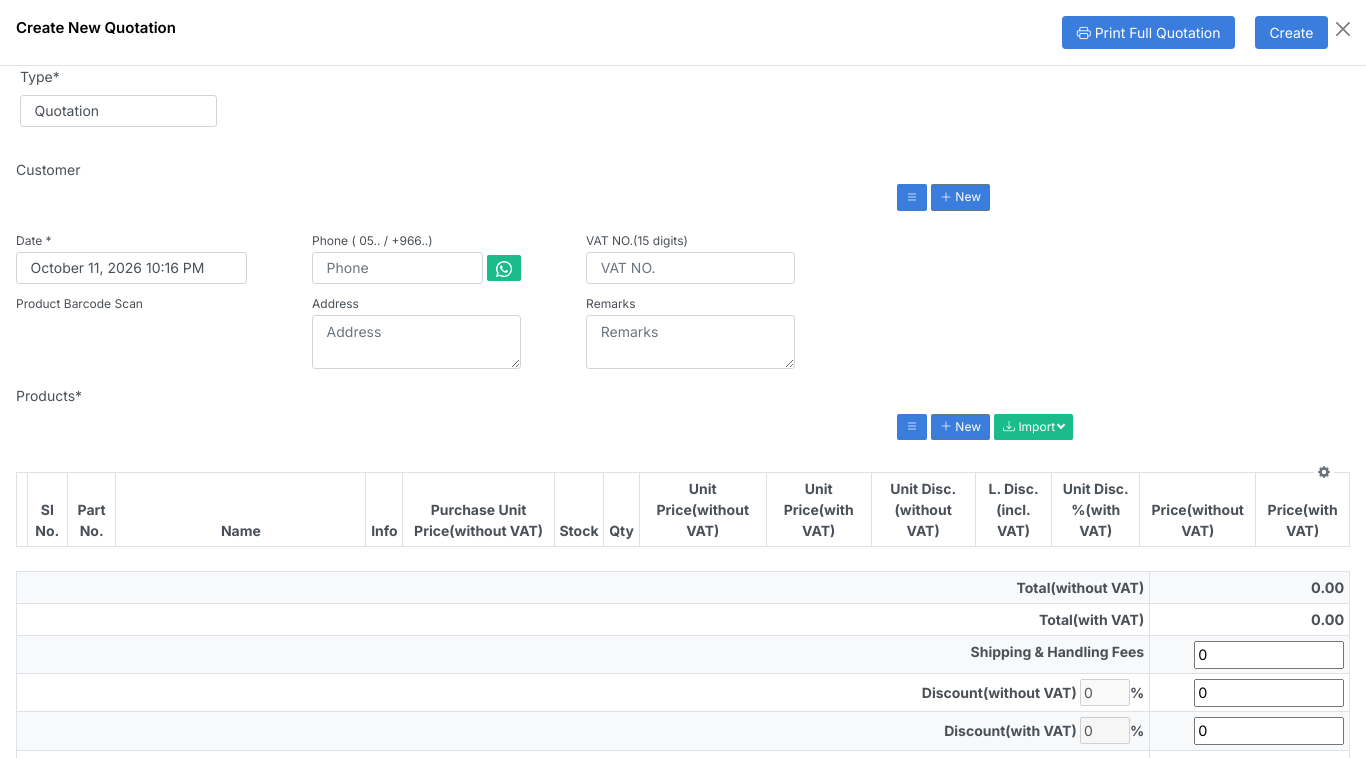
Test: Quotation form: Import > From Quotations (integration) › closing the product modal imports nothing
The image size is (1366, 758).
What coordinates should you click on to do the following:
click the button with test id "import-dropdown-btn"
I would click on:
 (1034, 427)
Its box is [994,414,1073,440].
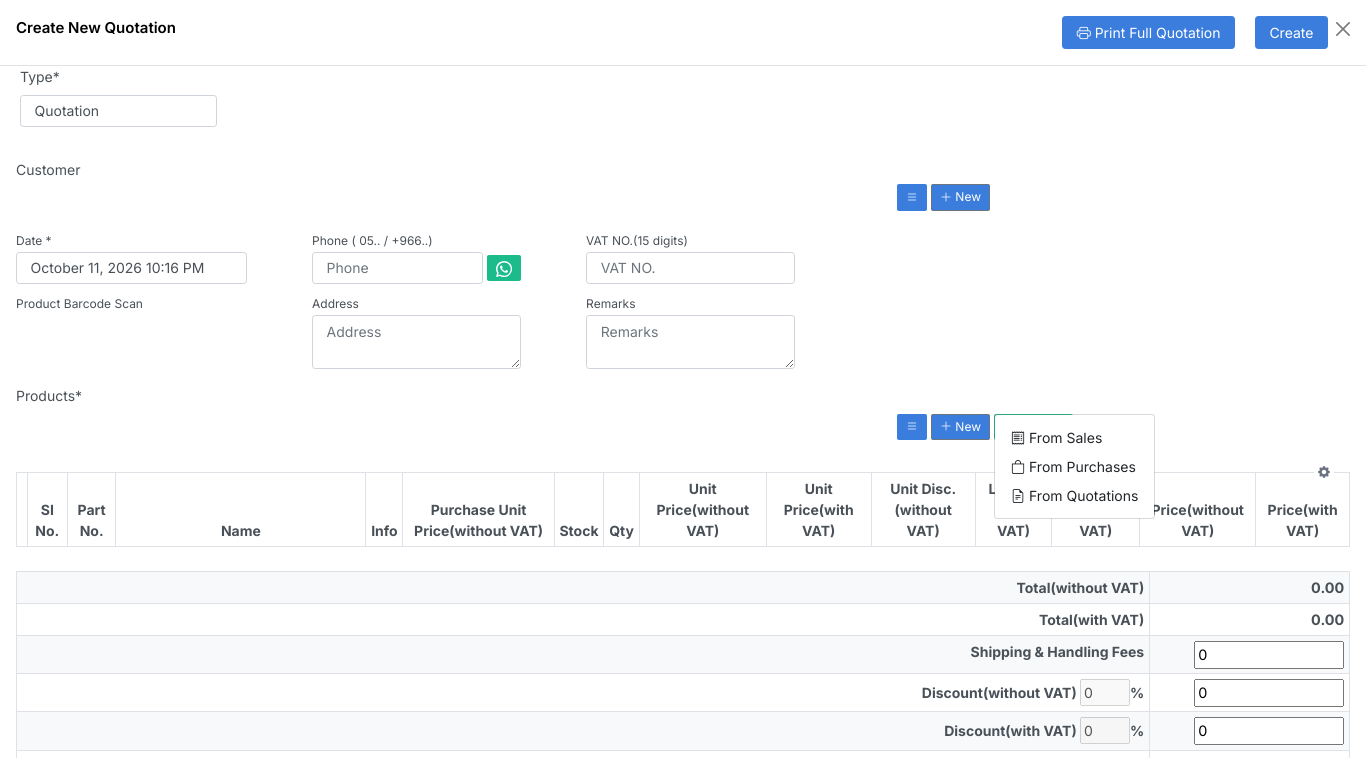
What coordinates should you click on to do the following:
click the button with test id "import-from-quotation-btn"
I would click on:
 (1075, 495)
Its box is [1011,487,1138,504].
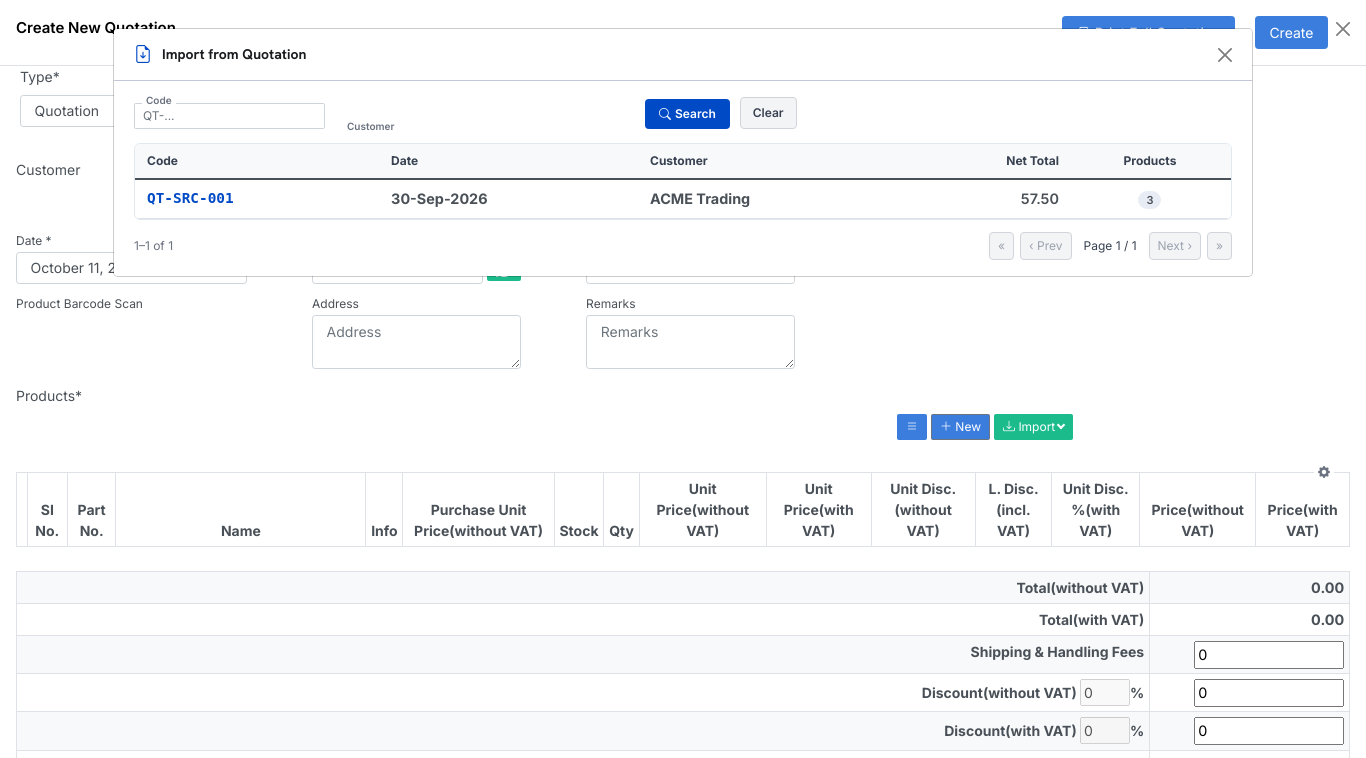
What coordinates should you click on to do the following:
click the text "QT-SRC-001"
I would click on:
 (258, 199)
Its box is [135,179,381,218].
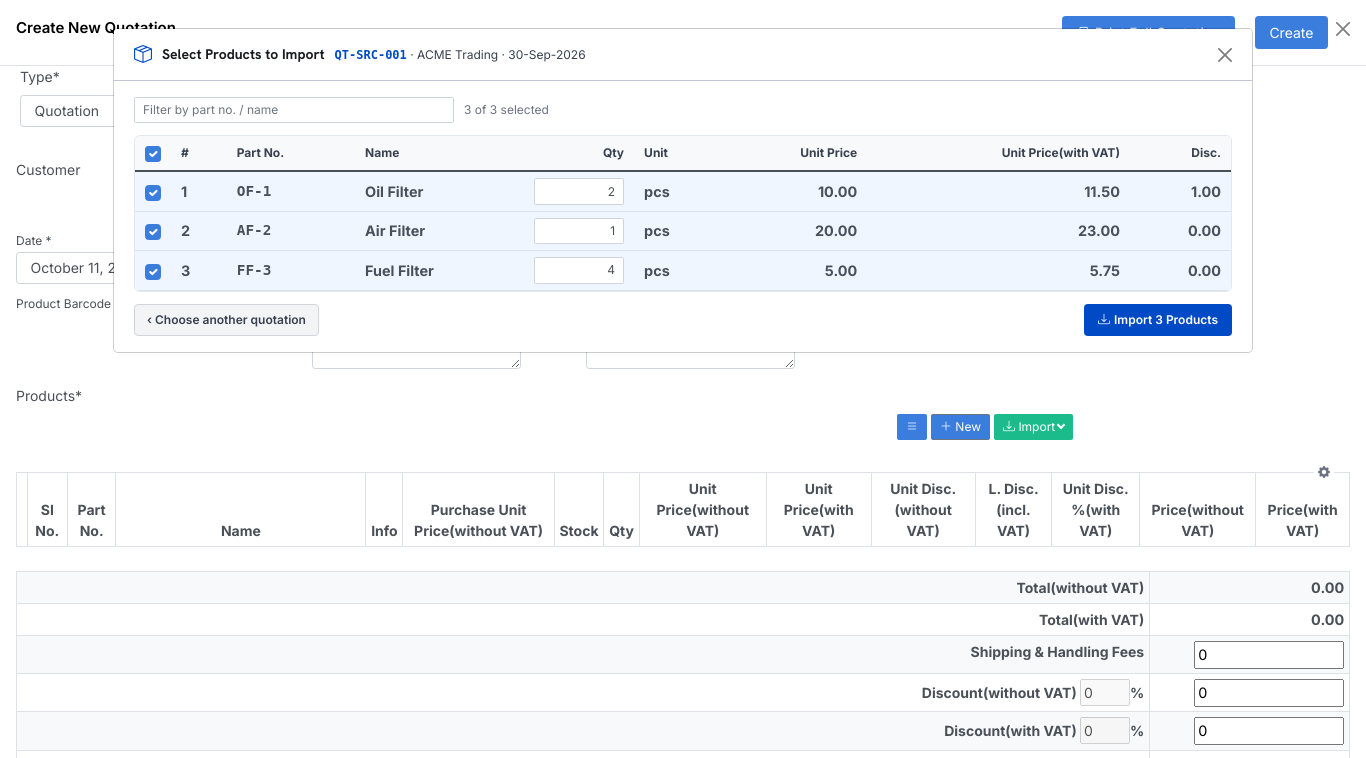
expect the heading "Select Products to Import" is shown: met, box [162,46,325,63]
What coordinates should you click on to do the following:
click the button named "Close"
I would click on:
 (1225, 54)
Its box is [1210,40,1240,70].
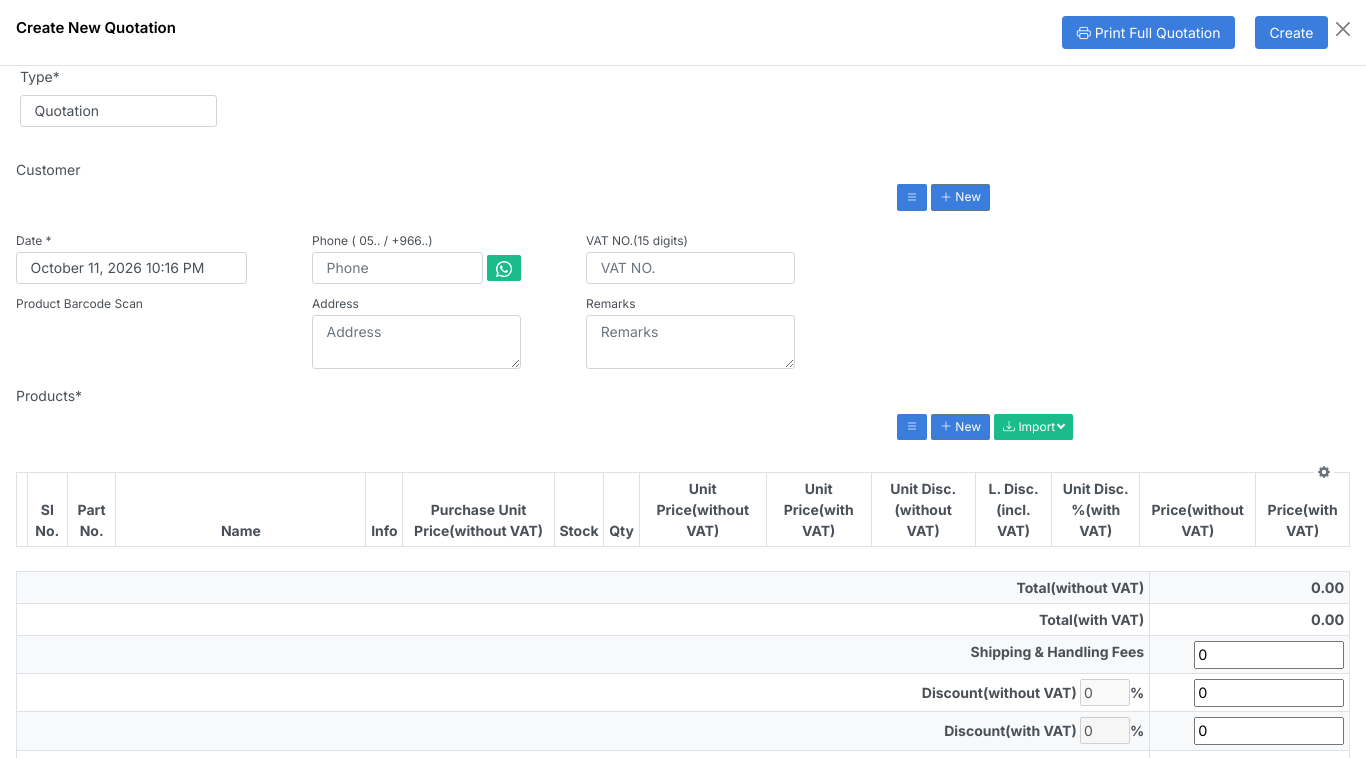
expect the heading "Select Products to Import" is gone: met
